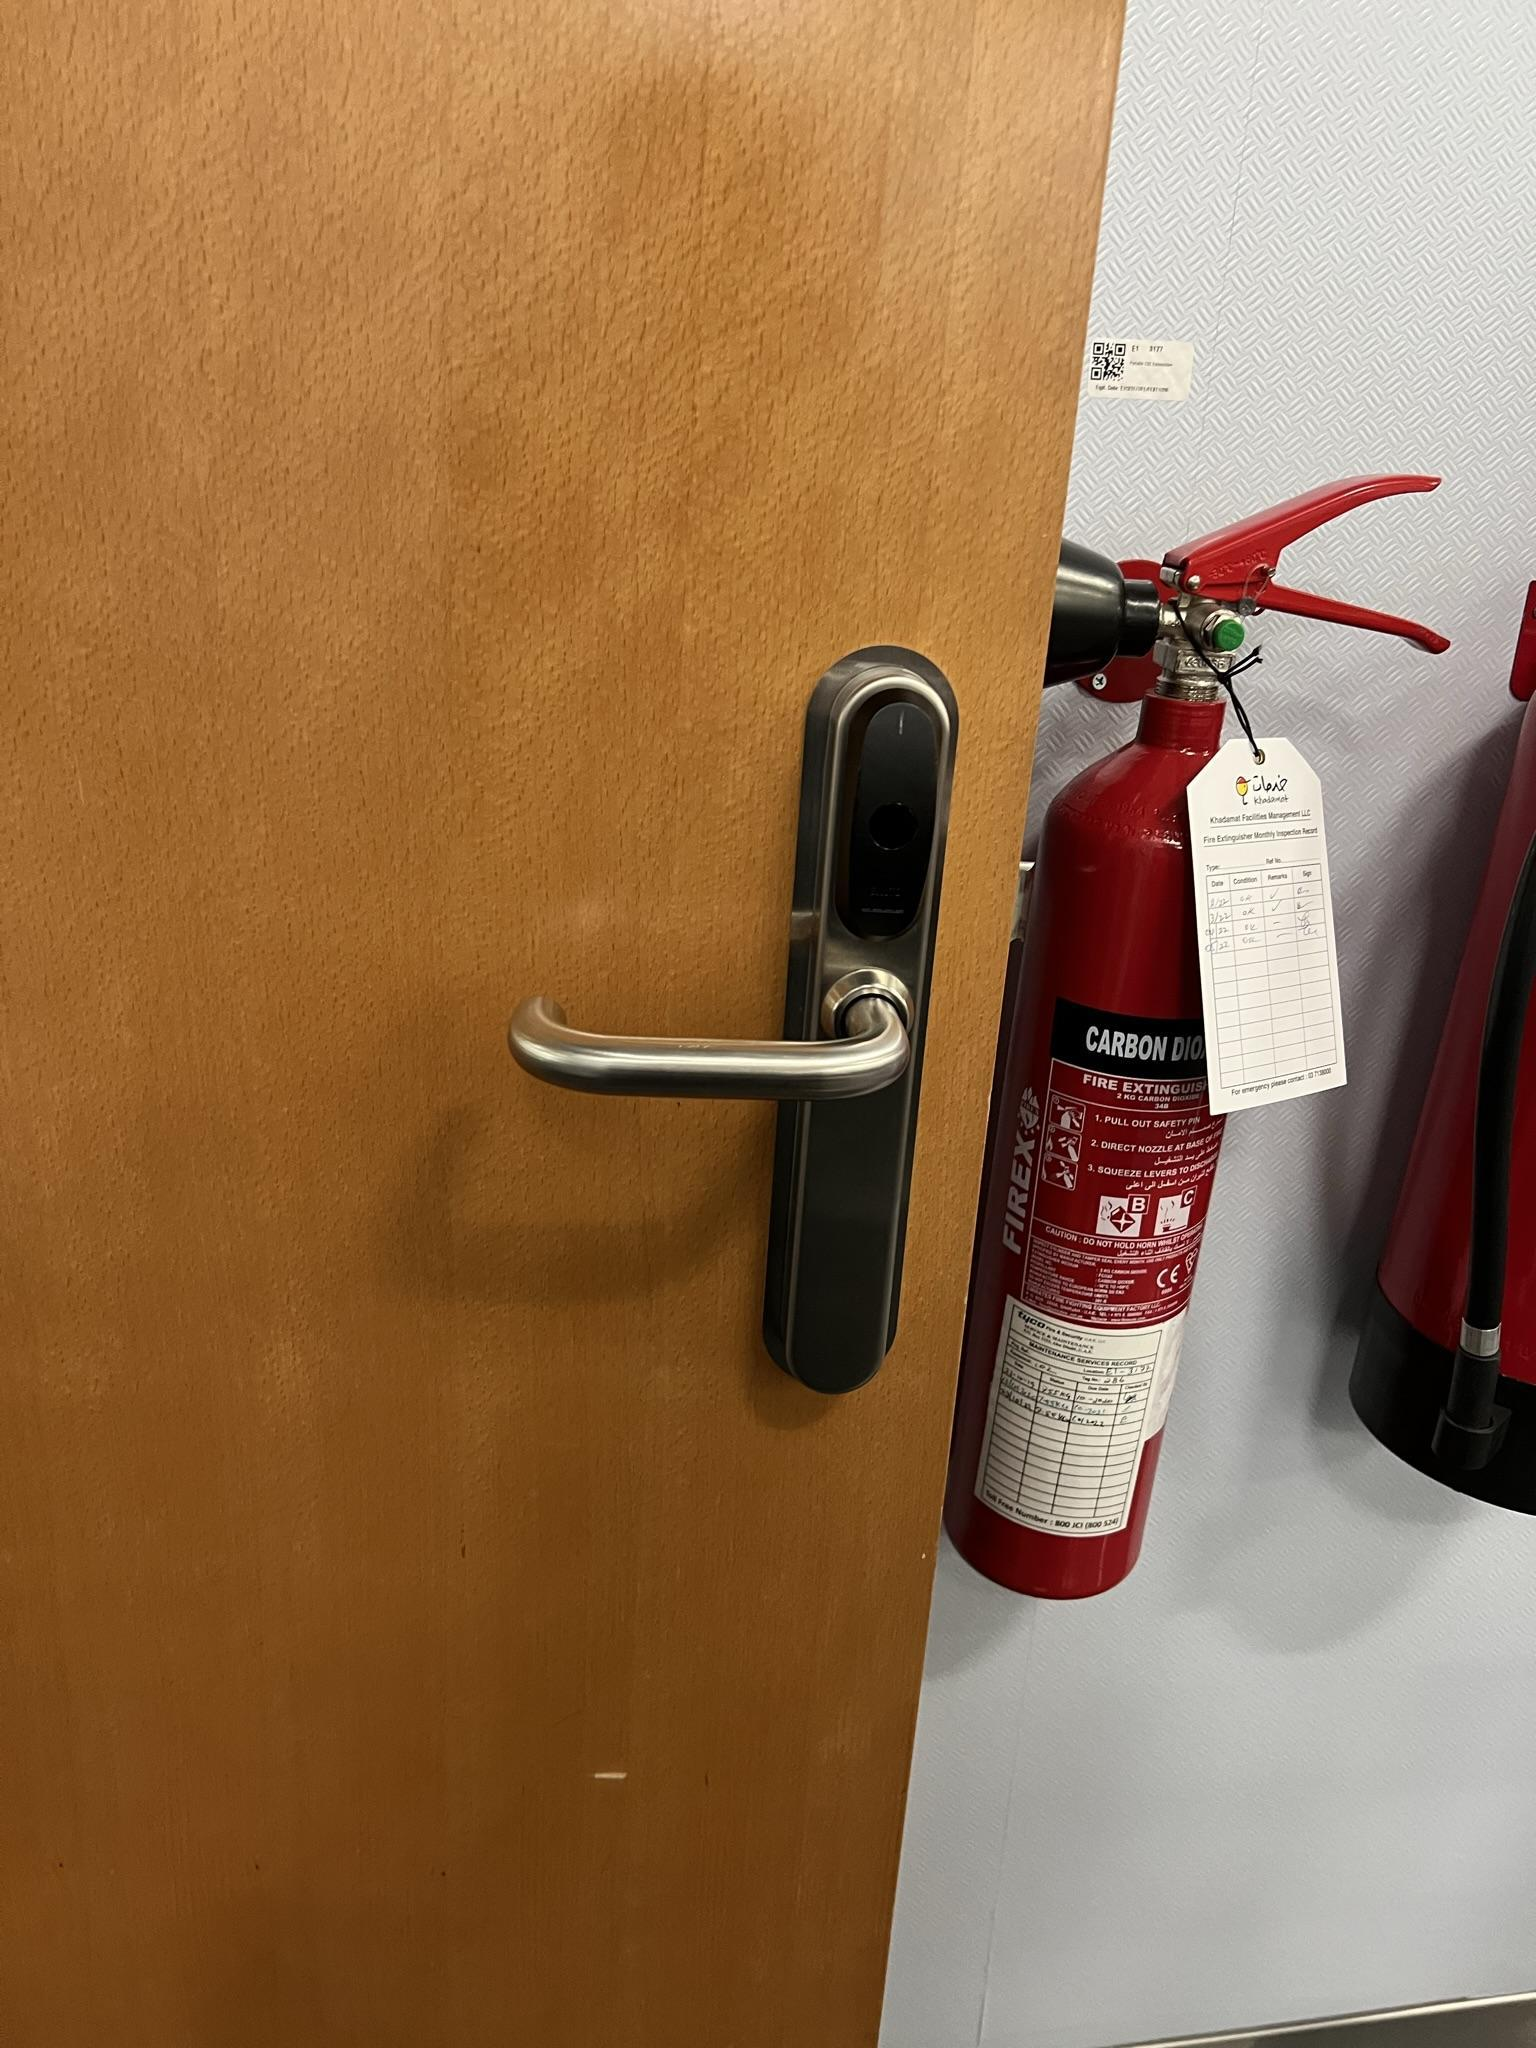door: (0, 6, 1012, 2048)
handle: (487, 626, 965, 1401)
